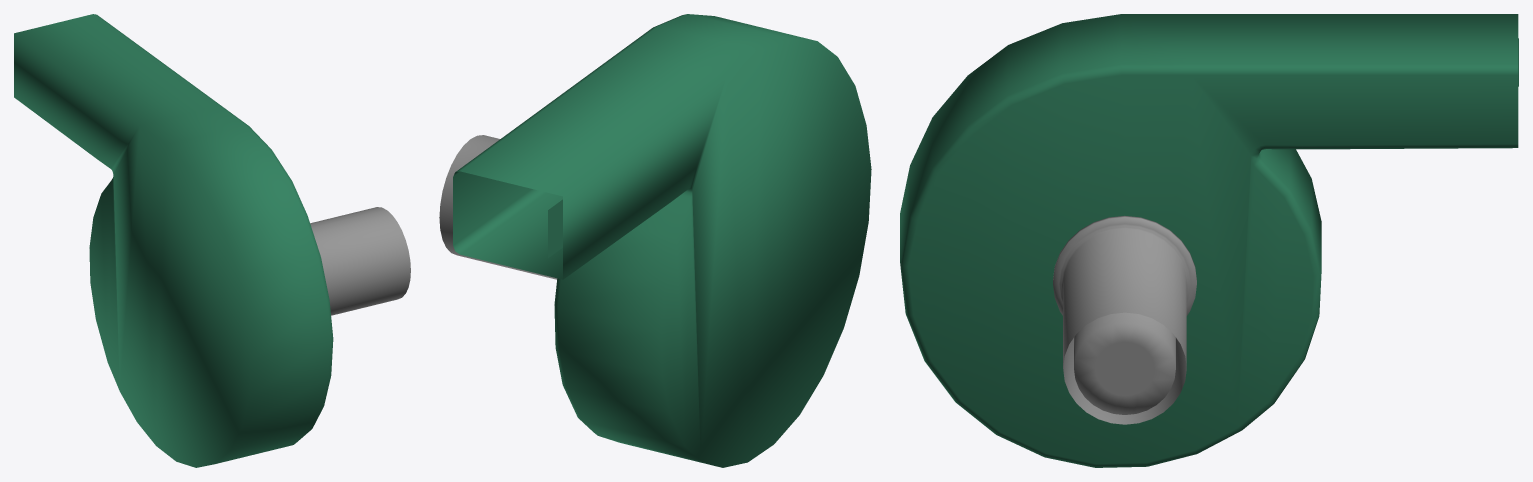
Rendered from pumpcaseinatct02.glb.
3 renders of one model, left to right at view 1: azimuth 30°, elevation 25°; view 2: azimuth 150°, elevation 25°; view 3: azimuth 270°, elevation 25°, orthographic. The views are drawn at different scales.
Parts seen in each view (by area): view 1: Centrifugal pump binary.003, Centrifugal pump binary.004; view 2: Centrifugal pump binary.003, Centrifugal pump binary.004; view 3: Centrifugal pump binary.003, Centrifugal pump binary.004.
Part boxes in pixels (bbox=[...]): Centrifugal pump binary.003: bbox=[14, 14, 333, 467]; Centrifugal pump binary.004: bbox=[310, 207, 410, 315]; Centrifugal pump binary.003: bbox=[453, 14, 871, 467]; Centrifugal pump binary.004: bbox=[439, 135, 557, 279]; Centrifugal pump binary.003: bbox=[900, 14, 1518, 467]; Centrifugal pump binary.004: bbox=[1053, 215, 1196, 424].
Bounding box in the file's own units: 0.2141 × 0.2845 × 0.3954.
